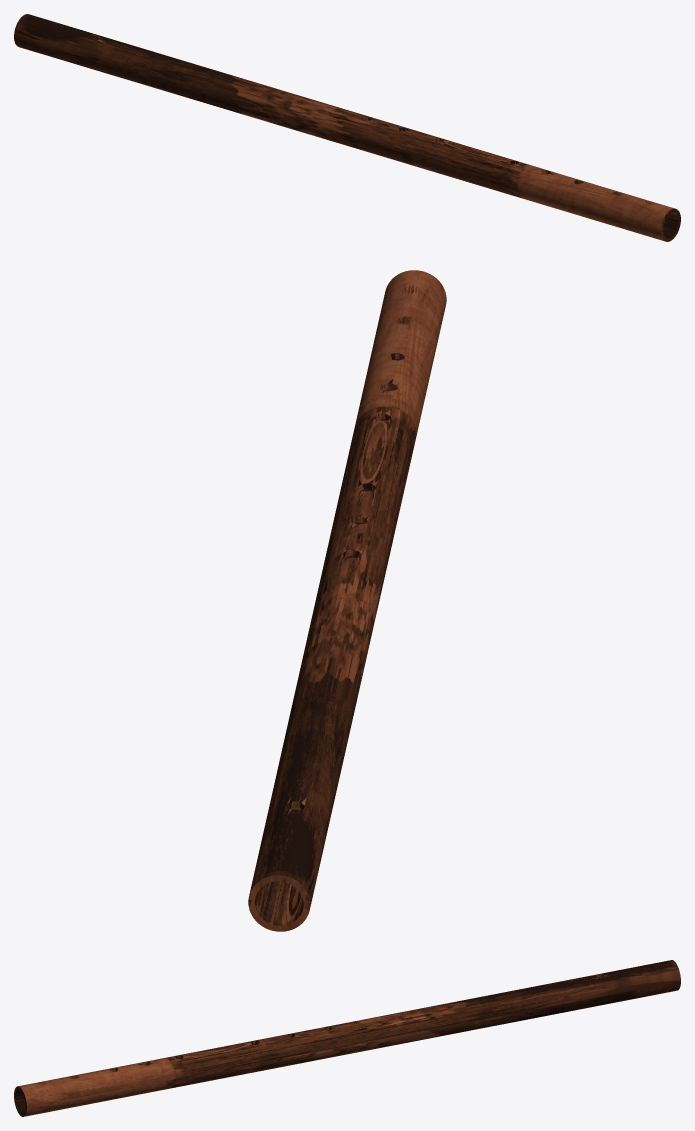
The model's file is flute.obj.
3 views of the same model, one above another, from view 1: azimuth 30°, elevation 25°; view 2: azimuth 150°, elevation 25°; view 3: azimuth 270°, elevation 25° (orthographic). The views are drawn at different scales.
Visible parts, largest first — view 1: object_0.003; view 2: object_0.003; view 3: object_0.003.
Boxes of the visible parts, left/top/right/bottom form: object_0.003: left=14, top=14, right=680, bottom=241; object_0.003: left=248, top=270, right=446, bottom=931; object_0.003: left=14, top=960, right=680, bottom=1116.
Size of the model in its own units: 0.6003 by 0.0571 by 1.22.
1 material, 1 textured.
